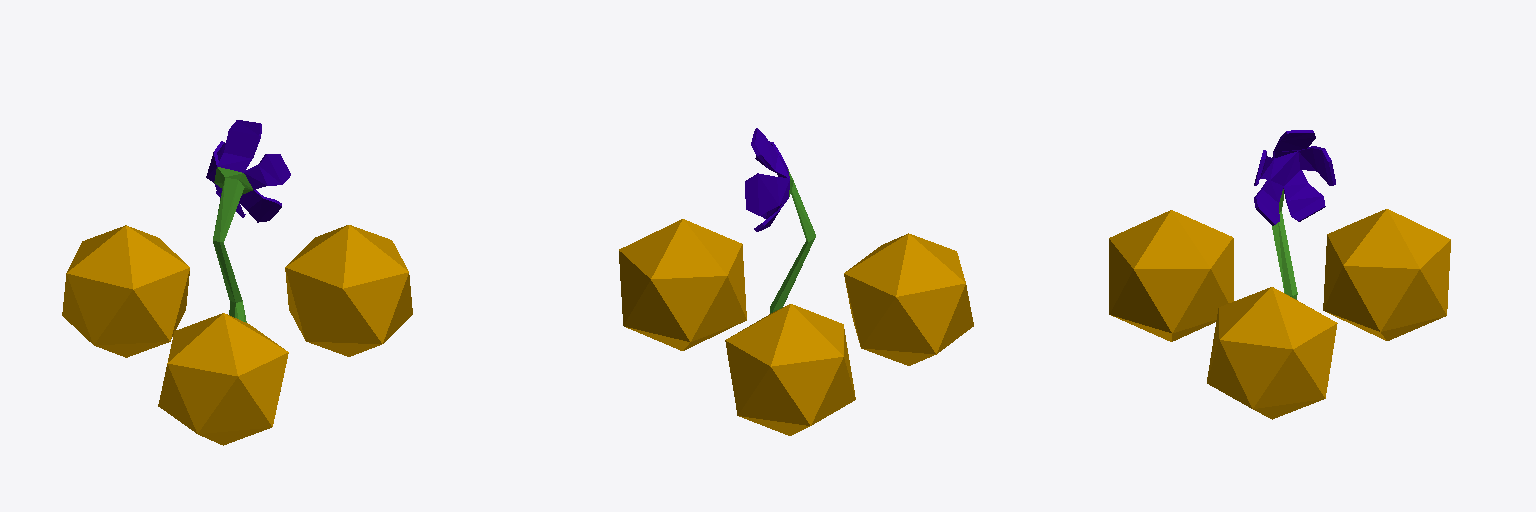
The model's file is attack_flower_tool.obj.
3 views of the same model, side by side, from view 1: azimuth 30°, elevation 25°; view 2: azimuth 150°, elevation 25°; view 3: azimuth 270°, elevation 25° (orthographic).
Parts seen in each view (by area): view 1: energy_remain_Icosphere.001, energy_remain_Icosphere, energy_remain_Icosphere.002, Cube.003; view 2: energy_remain_Icosphere.001, energy_remain_Icosphere, energy_remain_Icosphere.002, Cube.003; view 3: energy_remain_Icosphere, energy_remain_Icosphere.002, energy_remain_Icosphere.001, Cube.003.
Part boxes in pixels (bbox=[...]): energy_remain_Icosphere.001: bbox=[285, 225, 412, 356]; energy_remain_Icosphere: bbox=[62, 225, 189, 357]; energy_remain_Icosphere.002: bbox=[158, 313, 288, 445]; Cube.003: bbox=[206, 120, 290, 322]; energy_remain_Icosphere.001: bbox=[619, 219, 746, 350]; energy_remain_Icosphere: bbox=[725, 304, 855, 435]; energy_remain_Icosphere.002: bbox=[844, 233, 973, 365]; Cube.003: bbox=[745, 128, 815, 313]; energy_remain_Icosphere: bbox=[1323, 209, 1450, 340]; energy_remain_Icosphere.002: bbox=[1109, 210, 1233, 341]; energy_remain_Icosphere.001: bbox=[1207, 287, 1337, 419]; Cube.003: bbox=[1254, 130, 1335, 299].
Bounding box in the file's own units: 0.6505 × 0.5584 × 0.6726.